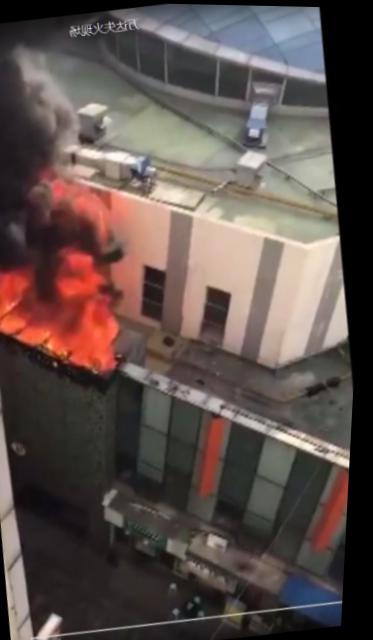fire: (50, 245, 115, 306), (69, 297, 124, 368), (0, 265, 45, 339), (26, 292, 80, 352)
